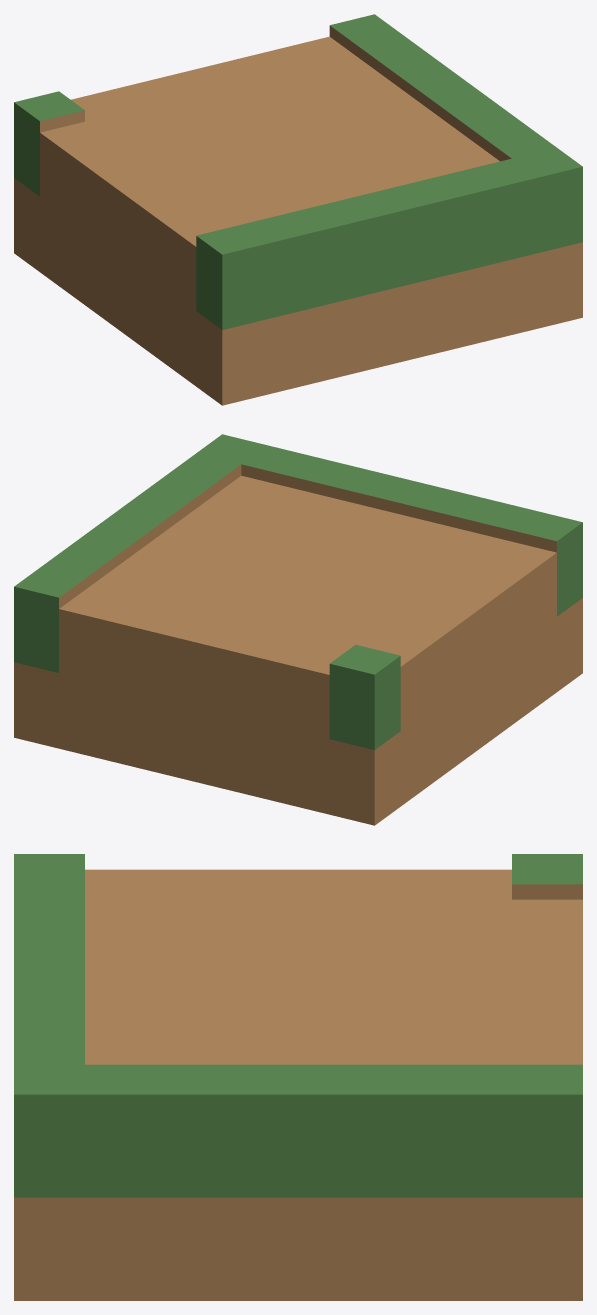
Rendered from tile_090.obj.
3 views of the same model, one above another, from view 1: azimuth 30°, elevation 25°; view 2: azimuth 150°, elevation 25°; view 3: azimuth 270°, elevation 25° (orthographic). The views are drawn at different scales.
Parts seen in each view (by area): view 1: tile_090; view 2: tile_090; view 3: tile_090.
Boxes of the visible parts, left/top/right/bottom form: tile_090: left=14, top=14, right=582, bottom=405; tile_090: left=14, top=434, right=582, bottom=825; tile_090: left=14, top=854, right=582, bottom=1300.
Bounding box in the file's own units: 1 × 0.4 × 1.
